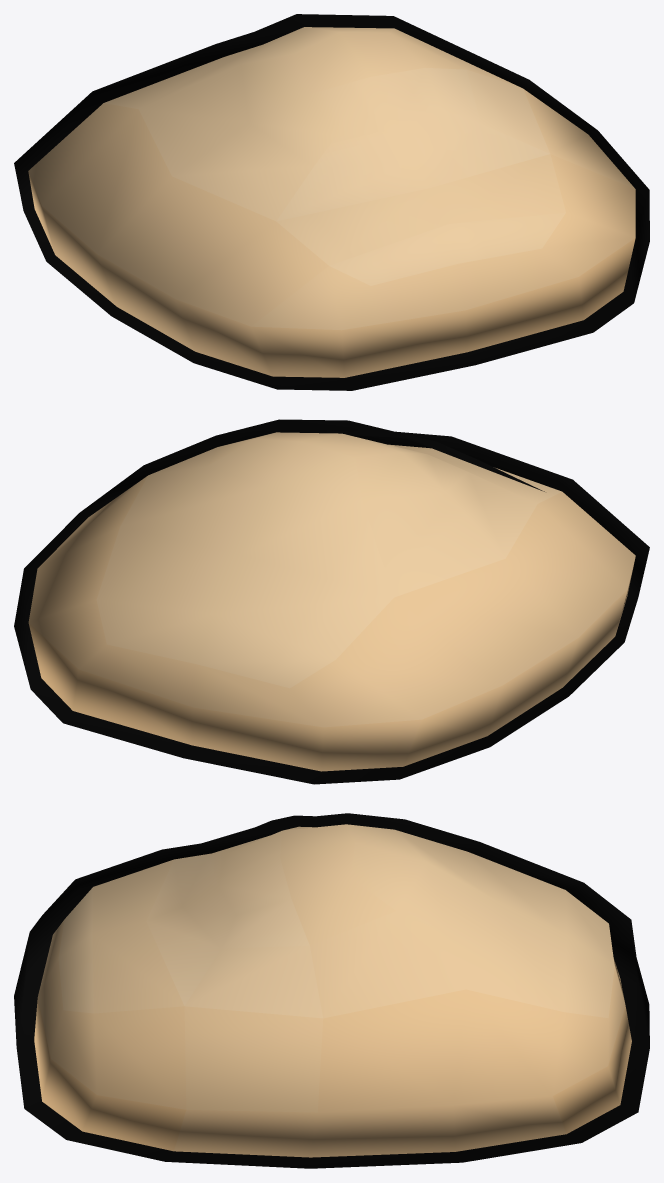
File: Send.fbx
3 views of the same model, one above another, from view 1: azimuth 30°, elevation 25°; view 2: azimuth 150°, elevation 25°; view 3: azimuth 270°, elevation 25° (orthographic). The views are drawn at different scales.
Visible parts, largest first — view 1: Cube; view 2: Cube; view 3: Cube.
Part boxes in pixels (x1,y1,x2,y2): Cube: [14, 14, 649, 390]; Cube: [14, 419, 649, 784]; Cube: [14, 813, 649, 1168].
Size of the model in its own units: 430 by 179 by 446.
